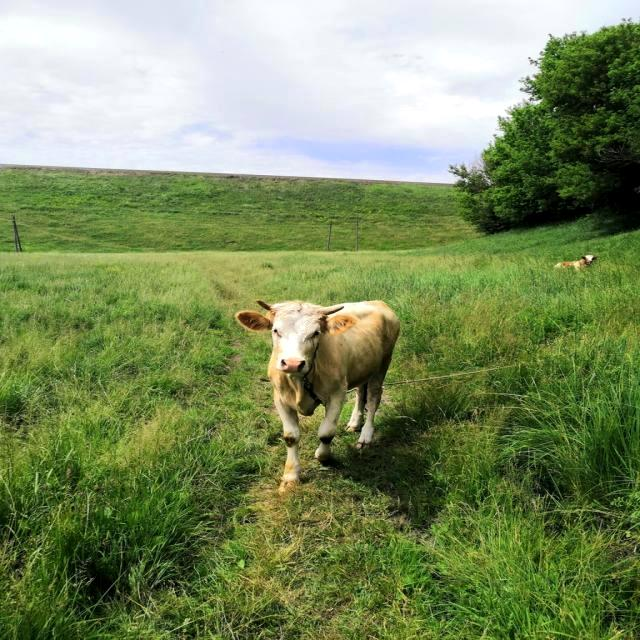COW: (236, 300, 400, 488)
